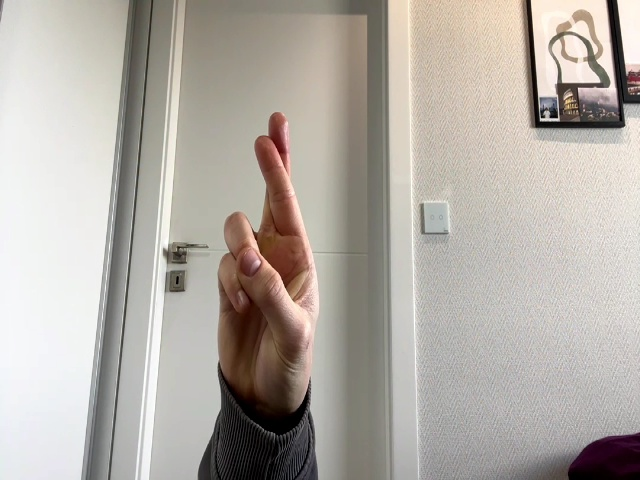R: (217, 112, 320, 395)
